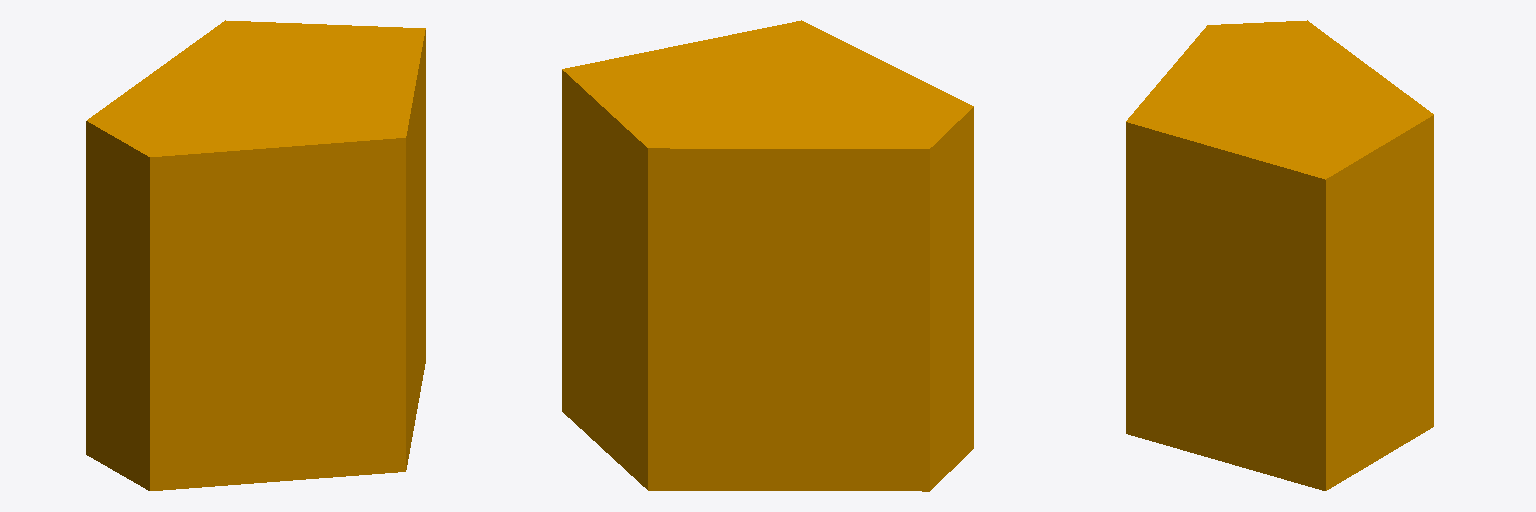
URDF robot description (object):
<?xml version="1.0"?>
<robot name="object">
  <link name="object">
    <visual>
      <origin xyz="0 0 0"/>
      <geometry>
        <mesh filename="meshes/generated/col_071.obj" scale="0.03 0.03 0.03"/>
      </geometry>
    </visual>
    <collision>
      <origin xyz="0 0 0"/>
      <geometry>
        <mesh filename="meshes/generated/col_071.obj" scale="0.03 0.03 0.03"/>
      </geometry>
    </collision>
    <inertial>
      <density value="1000.0"/>
    </inertial>
  </link>
</robot>

--- Render facts (derived) ---
Views: 3 orthographic renders of the robot side by side, from view 1: azimuth 30°, elevation 25°; view 2: azimuth 150°, elevation 25°; view 3: azimuth 270°, elevation 25°.
Robot: object — 1 links, 0 joints (none); root link object; default pose: all joints at 0.
Visible links, largest first — view 1: object; view 2: object; view 3: object.
Link boxes in pixels (<box>): object: <box>86,20,425,490</box>; object: <box>562,20,973,491</box>; object: <box>1126,20,1433,490</box>.
Bounding box of the posed robot: 0.0656 × 0.0538 × 0.06 m (x, y, z).
Meshes: 1 distinct files referenced, 1 mesh visuals loaded (1 OBJ).
